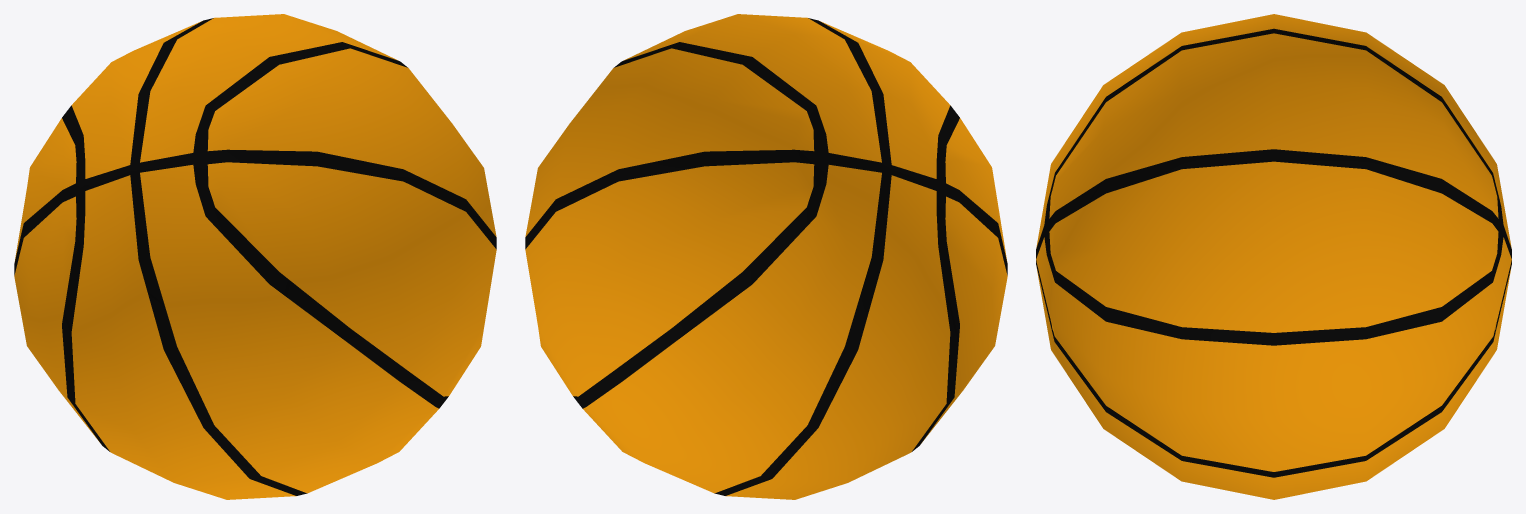
File: ps2_save-icons_baskelian.glb
3 renders of one model, left to right at view 1: azimuth 30°, elevation 25°; view 2: azimuth 150°, elevation 25°; view 3: azimuth 270°, elevation 25°, orthographic.
Parts seen in each view (by area): view 1: view.ico; view 2: view.ico; view 3: view.ico.
Boxes of the visible parts, <box> form: view.ico: <box>14,14,496,499</box>; view.ico: <box>525,14,1007,499</box>; view.ico: <box>1036,14,1511,499</box>.
Size of the model in its own units: 3.02 by 3.03 by 2.99.
Materials: 1 (1 with a texture image).
